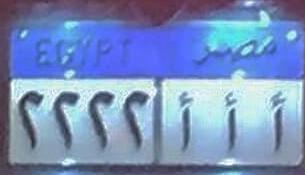2: (14, 88, 46, 155), (84, 88, 116, 152), (121, 88, 151, 152), (52, 89, 79, 150)
alif: (219, 89, 244, 151), (266, 90, 289, 156), (177, 88, 199, 152)
